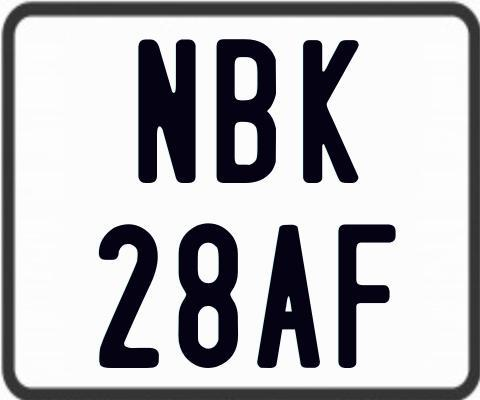2: (97, 223, 161, 372)
8: (178, 222, 243, 372)
A: (254, 225, 321, 370)
B: (214, 39, 276, 183)
F: (336, 221, 396, 370)
K: (300, 38, 360, 187)
N: (136, 38, 196, 187)
